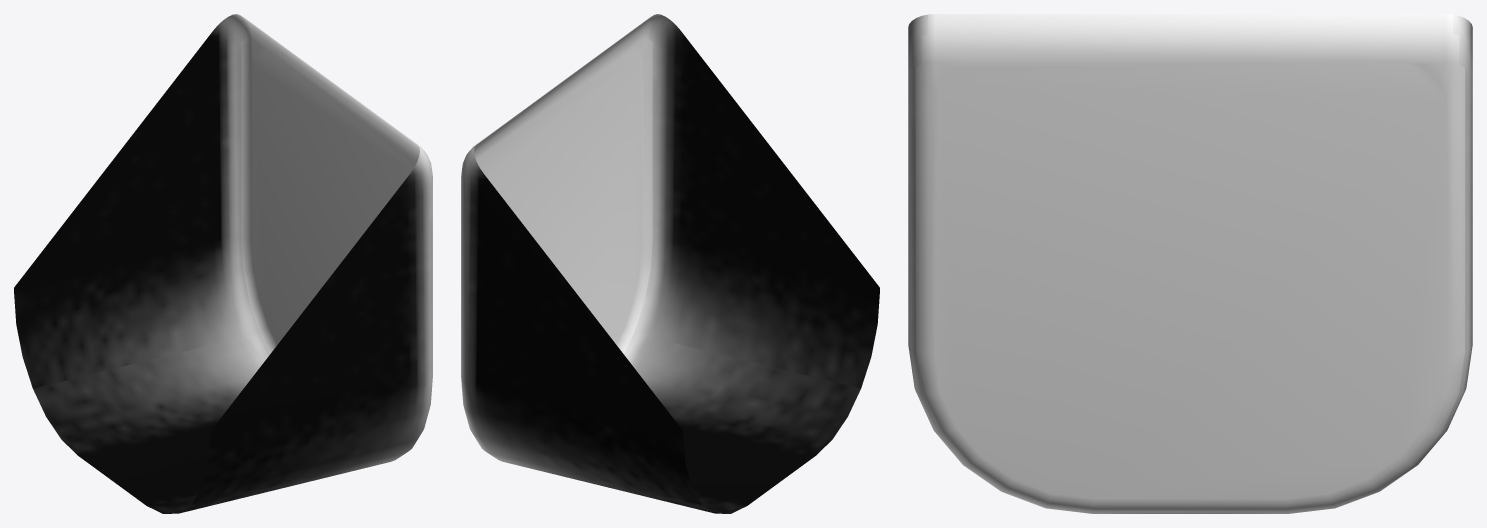
The model's file is edge.glb.
3 views of the same model, side by side, from view 1: azimuth 30°, elevation 25°; view 2: azimuth 150°, elevation 25°; view 3: azimuth 270°, elevation 25° (orthographic). The views are drawn at different scales.
Parts seen in each view (by area): view 1: Edge Cut; view 2: Edge Cut; view 3: Edge Cut.
Part boxes in pixels (x1,y1,x2,y2): Edge Cut: [14, 14, 432, 513]; Edge Cut: [461, 14, 879, 513]; Edge Cut: [908, 14, 1472, 513].
Size of the model in its own units: 0.6738 by 0.9773 by 1.
1 material, 1 textured.
